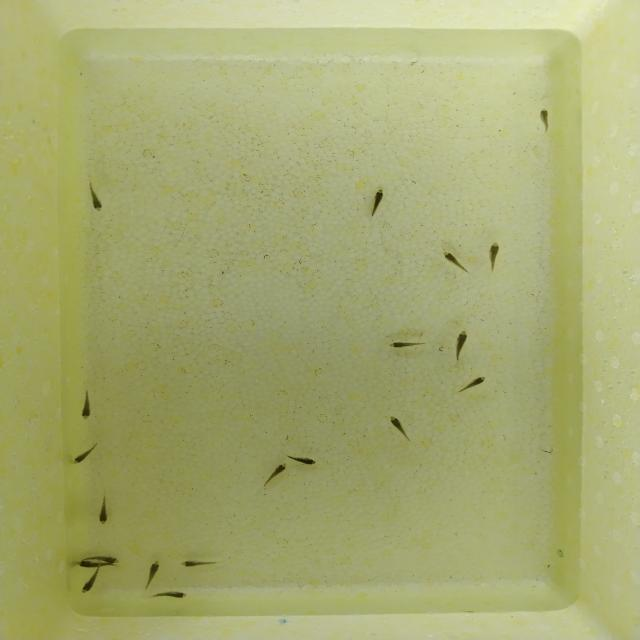fingerling: (85, 188, 119, 218), (69, 394, 103, 421), (436, 244, 466, 269), (157, 586, 201, 603), (484, 238, 506, 268), (93, 502, 118, 527), (534, 107, 557, 134), (368, 187, 389, 215), (452, 330, 473, 358), (460, 374, 492, 392), (388, 414, 410, 439), (146, 556, 162, 590), (65, 446, 95, 464), (176, 559, 216, 572), (385, 339, 423, 352), (284, 457, 328, 466), (81, 576, 97, 595), (94, 554, 126, 563), (272, 460, 286, 480), (75, 559, 93, 570)
